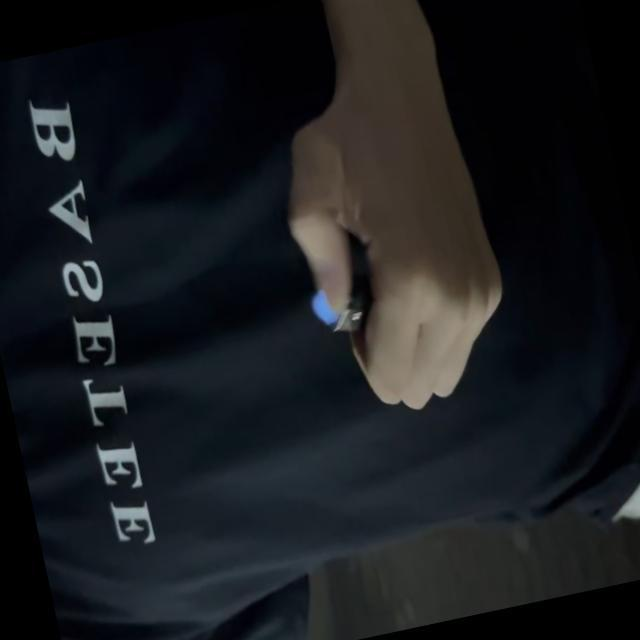Fire: (313, 294, 339, 326)
